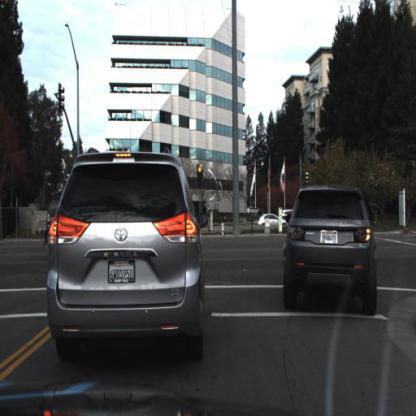car: (50, 145, 216, 365), (275, 165, 380, 333), (36, 185, 63, 257), (259, 213, 288, 229)
trafficLight: (195, 161, 206, 191)
trafficLight-Red: (194, 151, 209, 200)
